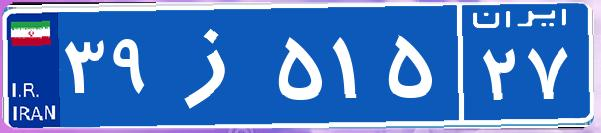1: (330, 28, 385, 110)
2: (475, 38, 525, 113)
3: (57, 26, 110, 107)
5: (385, 28, 445, 110), (273, 28, 330, 110)
7: (525, 38, 570, 115)
9: (110, 28, 158, 105)
ز: (158, 15, 273, 115)
